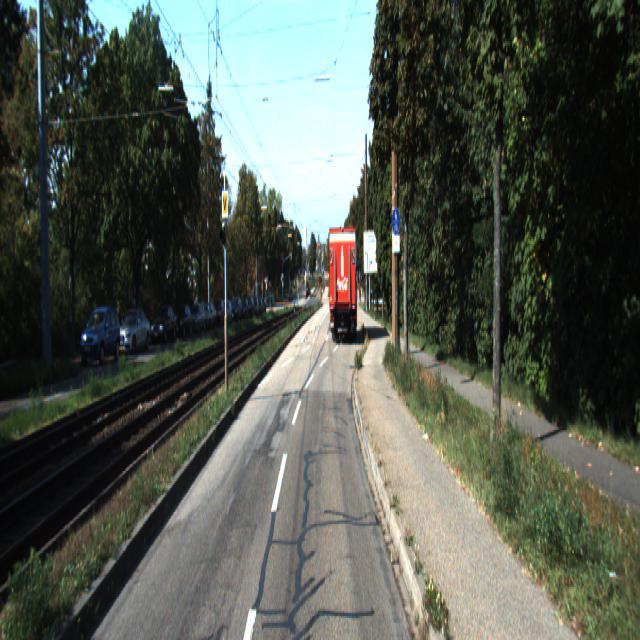Car: (327, 226, 358, 346), (79, 308, 122, 370), (113, 309, 151, 357), (148, 308, 178, 349)
